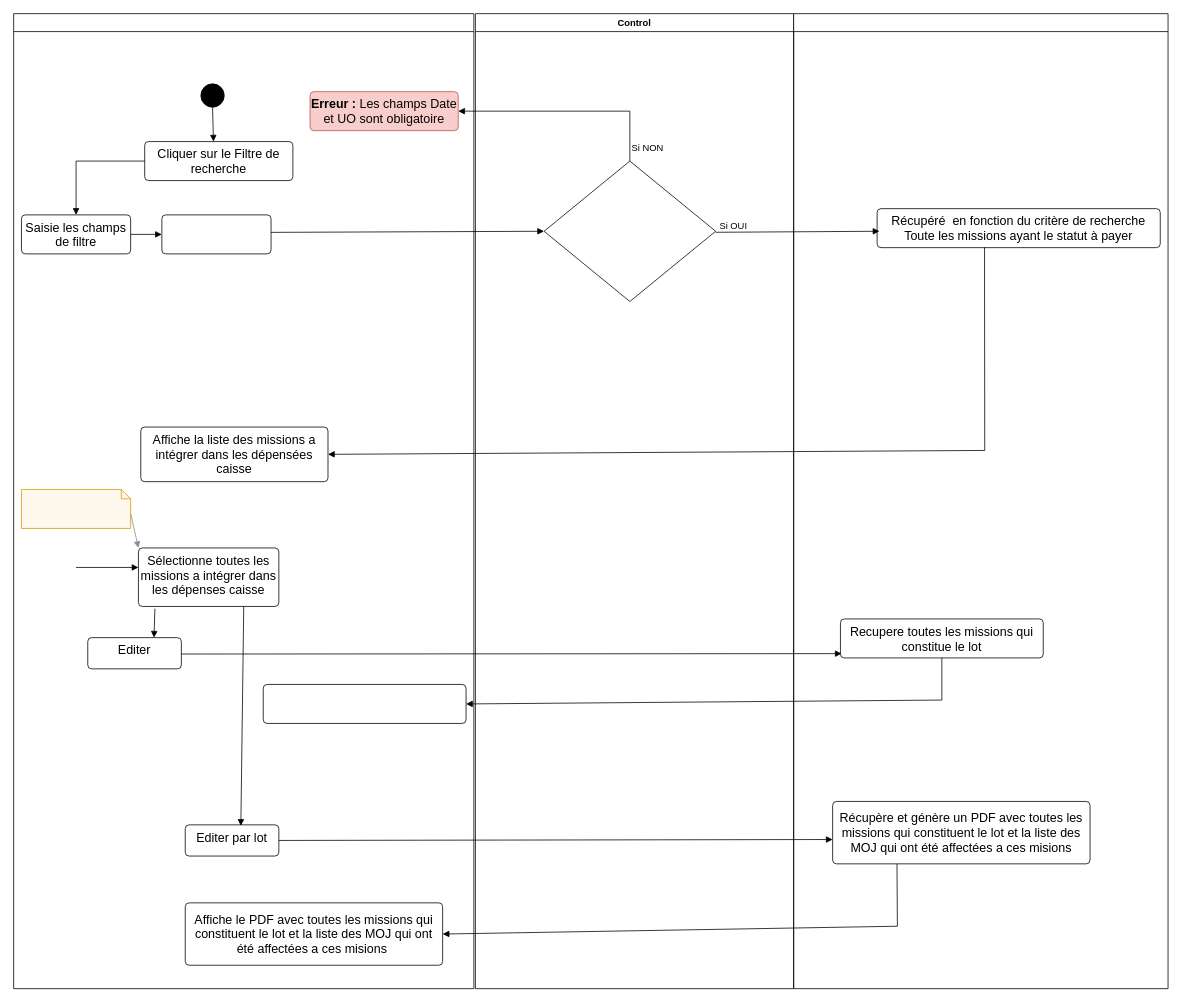
Some shapes in this 1182 by 1002 pixel diagram are drawn without their labels. Here are the shapes that lost their labels. From the top down, the box of each, then its label:
(161, 214, 271, 254): Valider la Recherche
(543, 160, 716, 301): vérifie si les champs UO & Date début & Date de fin de réalisation sont non vide
(21, 489, 131, 528): cette actions active automatiquement les boutons éditer
(13, 13, 474, 989): UI
(793, 13, 1168, 989): System
(262, 684, 466, 723): Affiche toutes les missions qui constitue le lot
